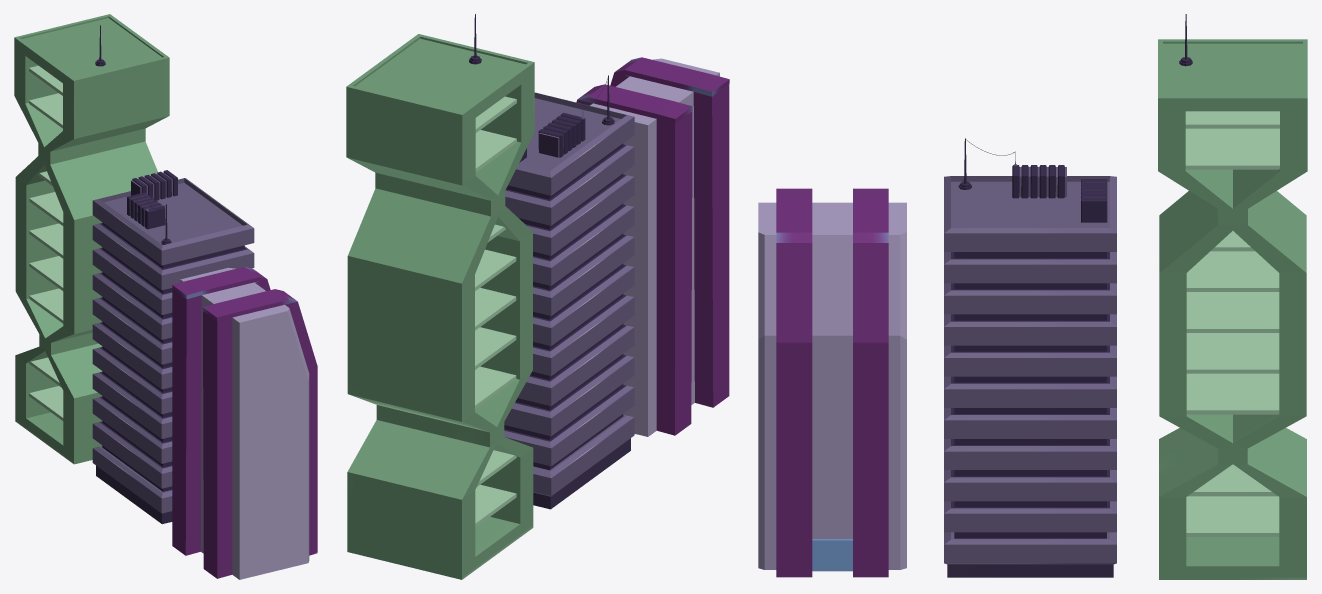
The model's file is Buildings.fbx.
The picture shows the model from 3 angles, left to right: view 1: azimuth 30°, elevation 25°; view 2: azimuth 150°, elevation 25°; view 3: azimuth 270°, elevation 25°; orthographic projection. The views are drawn at different scales.
Parts seen in each view (by area): view 1: Cube.003, Cube, Cube.002, Cube.004, Cube.001; view 2: Cube.003, Cube.002, Cube, Cube.004; view 3: Cube.003, Cube.002, Cube, Cube.004, Cube.001.
Part boxes in pixels (bbox=[...]): Cube.003: bbox=[14, 14, 169, 464]; Cube: bbox=[172, 266, 317, 579]; Cube.002: bbox=[92, 178, 254, 524]; Cube.004: bbox=[127, 192, 165, 229]; Cube.001: bbox=[131, 170, 177, 200]; Cube.003: bbox=[346, 34, 534, 579]; Cube.002: bbox=[504, 92, 634, 509]; Cube: bbox=[576, 57, 729, 436]; Cube.004: bbox=[538, 112, 585, 157]; Cube.003: bbox=[1158, 39, 1307, 579]; Cube.002: bbox=[944, 176, 1116, 577]; Cube: bbox=[758, 188, 906, 577]; Cube.004: bbox=[1012, 165, 1066, 198]; Cube.001: bbox=[1081, 179, 1107, 222].
Bounding box in the file's own units: 847 × 3269 × 3065.
